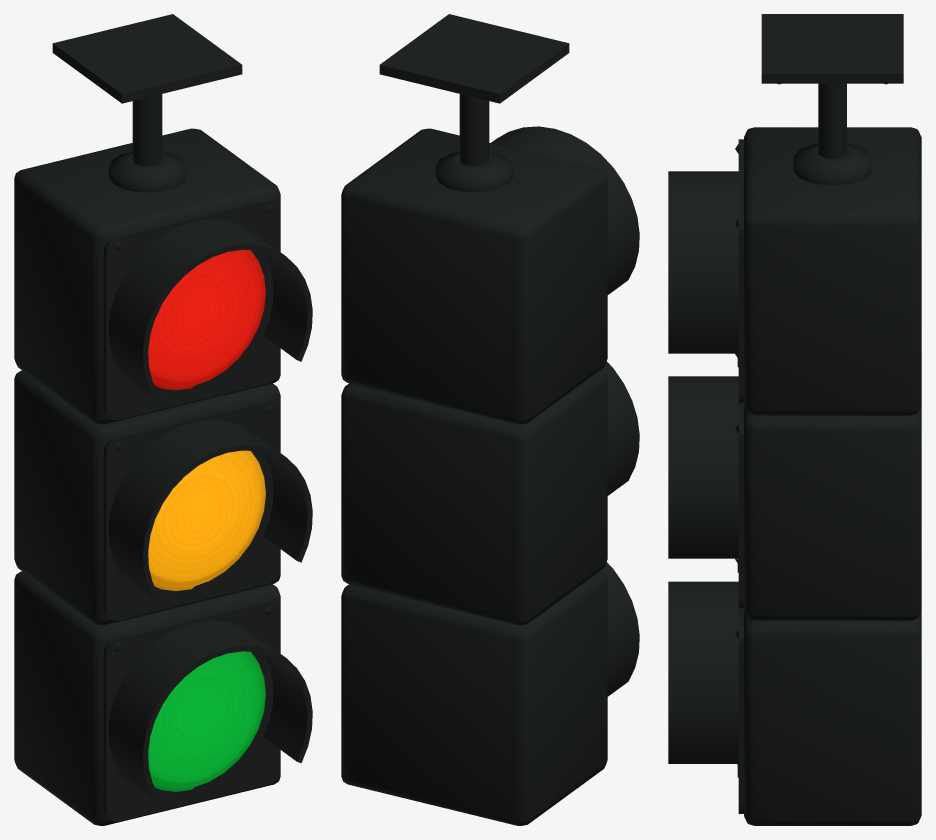
The model's file is traffic-light.glb.
3 renders of one model, left to right at view 1: azimuth 30°, elevation 25°; view 2: azimuth 150°, elevation 25°; view 3: azimuth 270°, elevation 25°, orthographic. The views are drawn at different scales.
Parts seen in each view (by area): view 1: traffic_light_N39; view 2: traffic_light_N39; view 3: traffic_light_N39.
Boxes of the visible parts, <box> form: traffic_light_N39: <box>14,14,312,825</box>; traffic_light_N39: <box>341,14,639,825</box>; traffic_light_N39: <box>668,14,921,825</box>.
Size of the model in its own units: 0.25 by 0.95 by 0.285.
4 materials, 3 textured.
